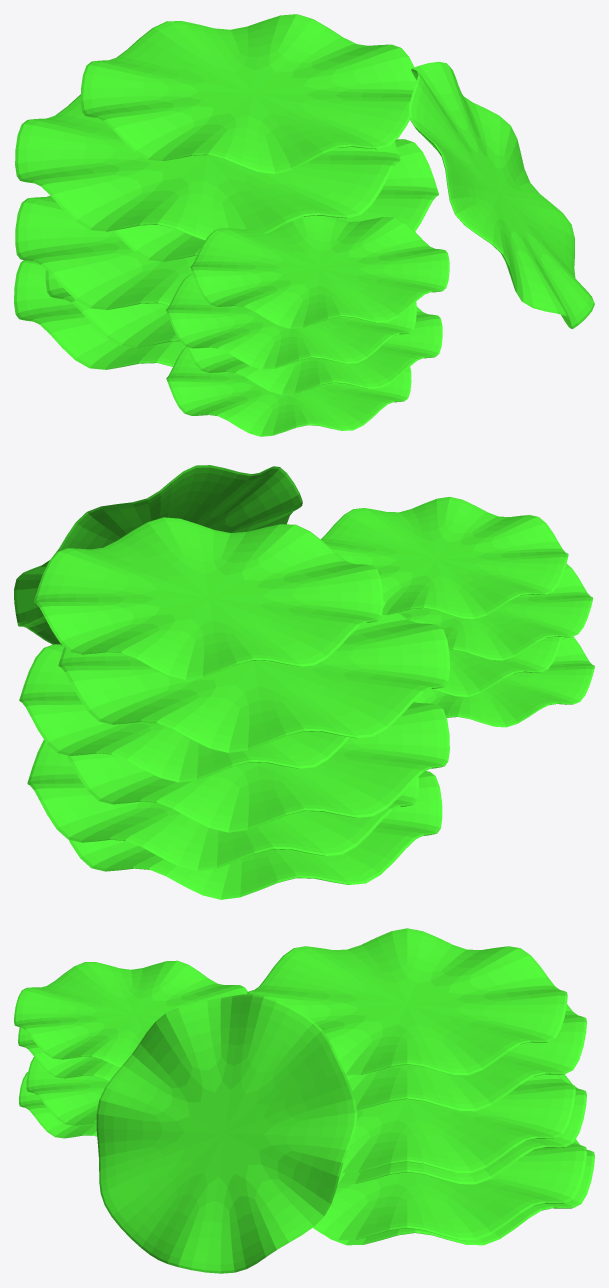
The model's file is saladTable.fbx.
The picture shows the model from 3 angles, top to bottom: view 1: azimuth 30°, elevation 25°; view 2: azimuth 150°, elevation 25°; view 3: azimuth 270°, elevation 25°; orthographic projection. The views are drawn at different scales.
Parts seen in each view (by area): view 1: Cylinder.064; view 2: Cylinder.064; view 3: Cylinder.064.
Boxes of the visible parts, left/top/right/bottom form: Cylinder.064: left=14, top=14, right=594, bottom=436; Cylinder.064: left=14, top=465, right=594, bottom=899; Cylinder.064: left=14, top=928, right=594, bottom=1273.
Size of the model in its own units: 28.22 by 14.87 by 32.65.
